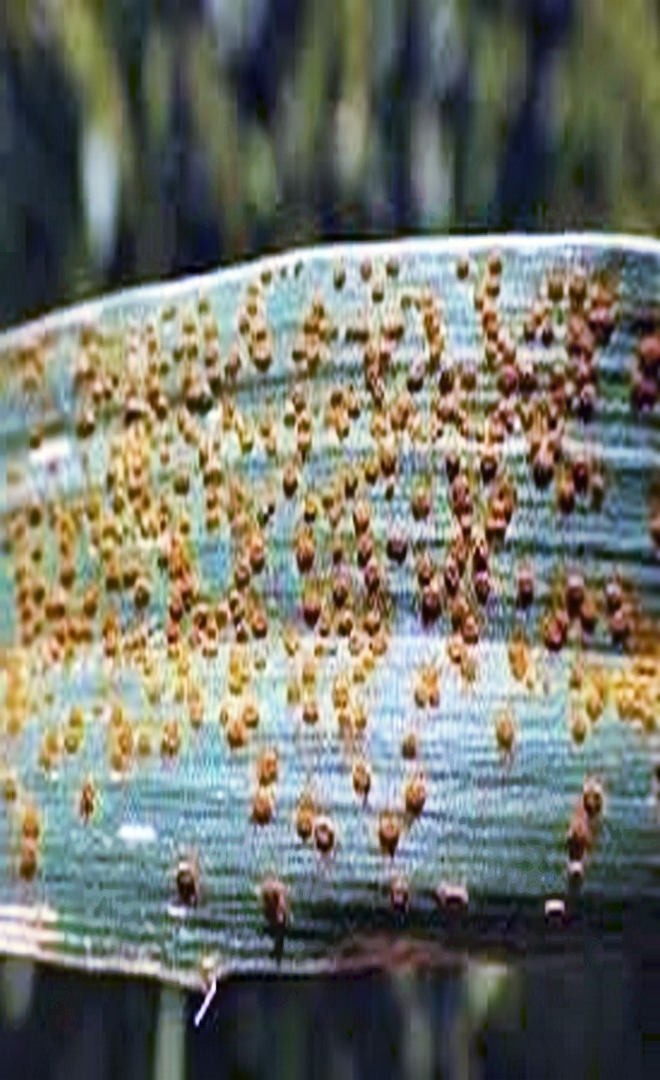Leaf Rust: (13, 224, 601, 910)
